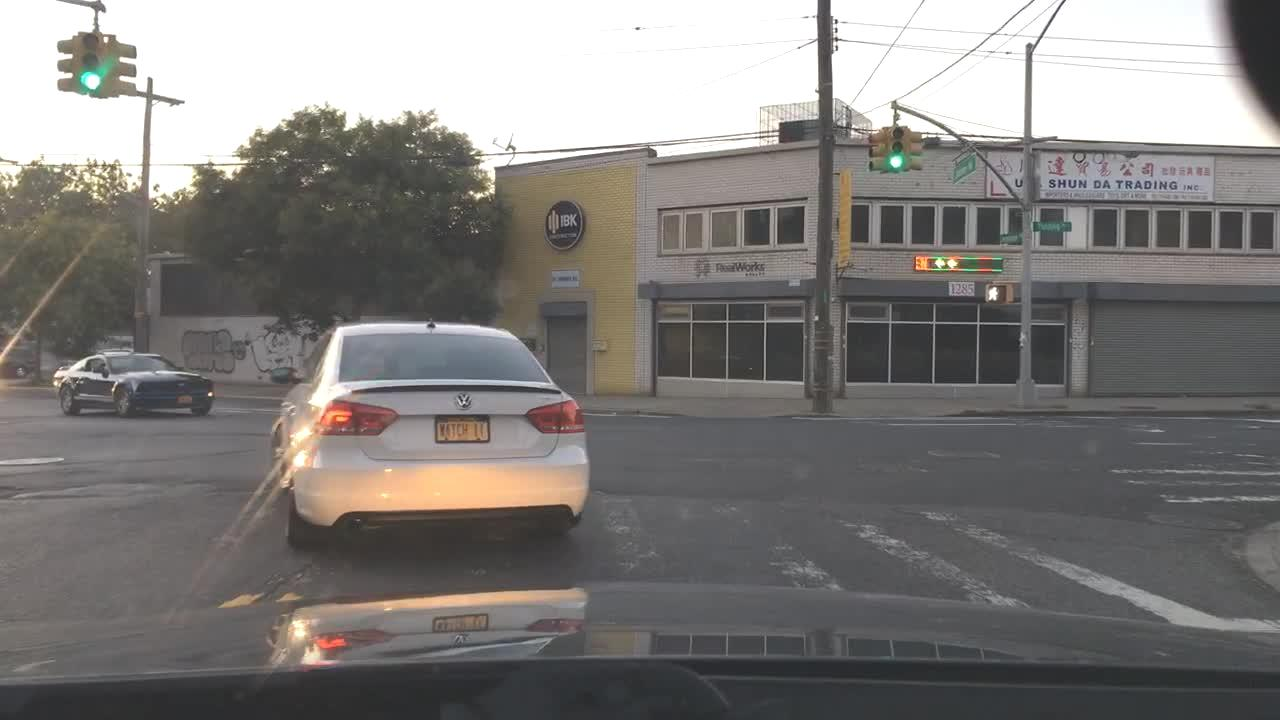Volkswagen: (448, 389, 476, 415)
